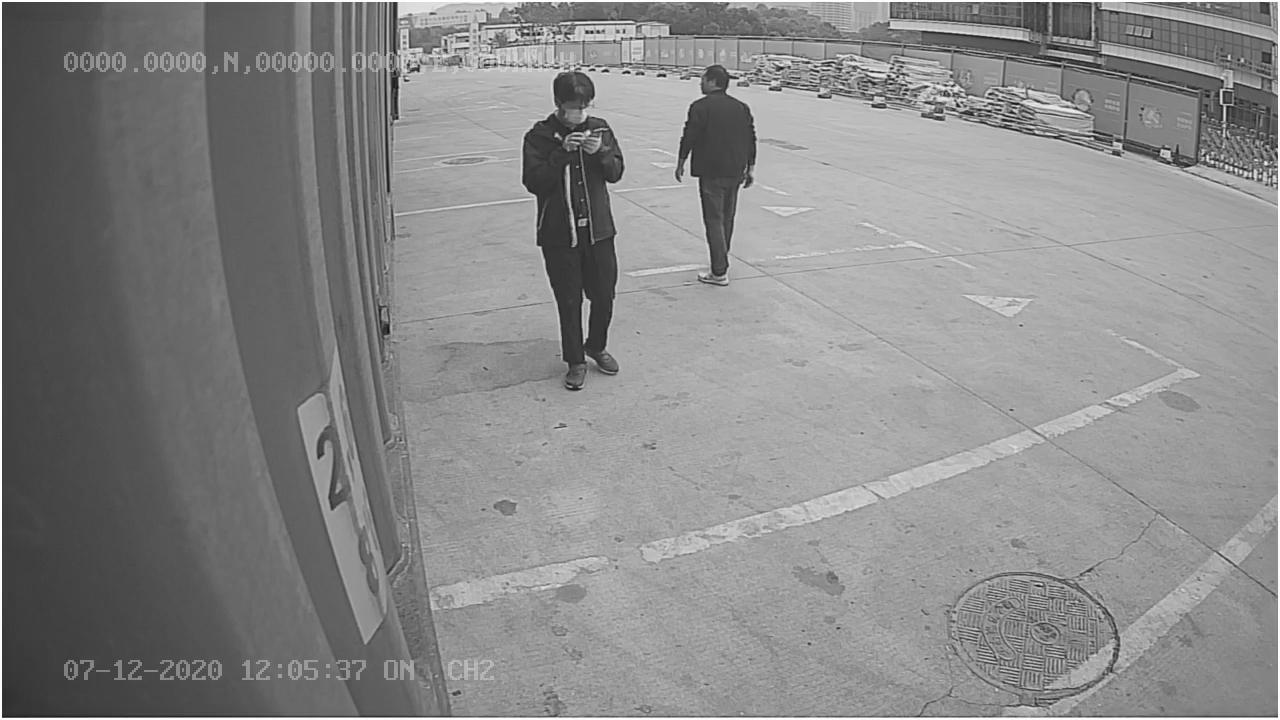person: (517, 69, 630, 394), (674, 58, 758, 289)
